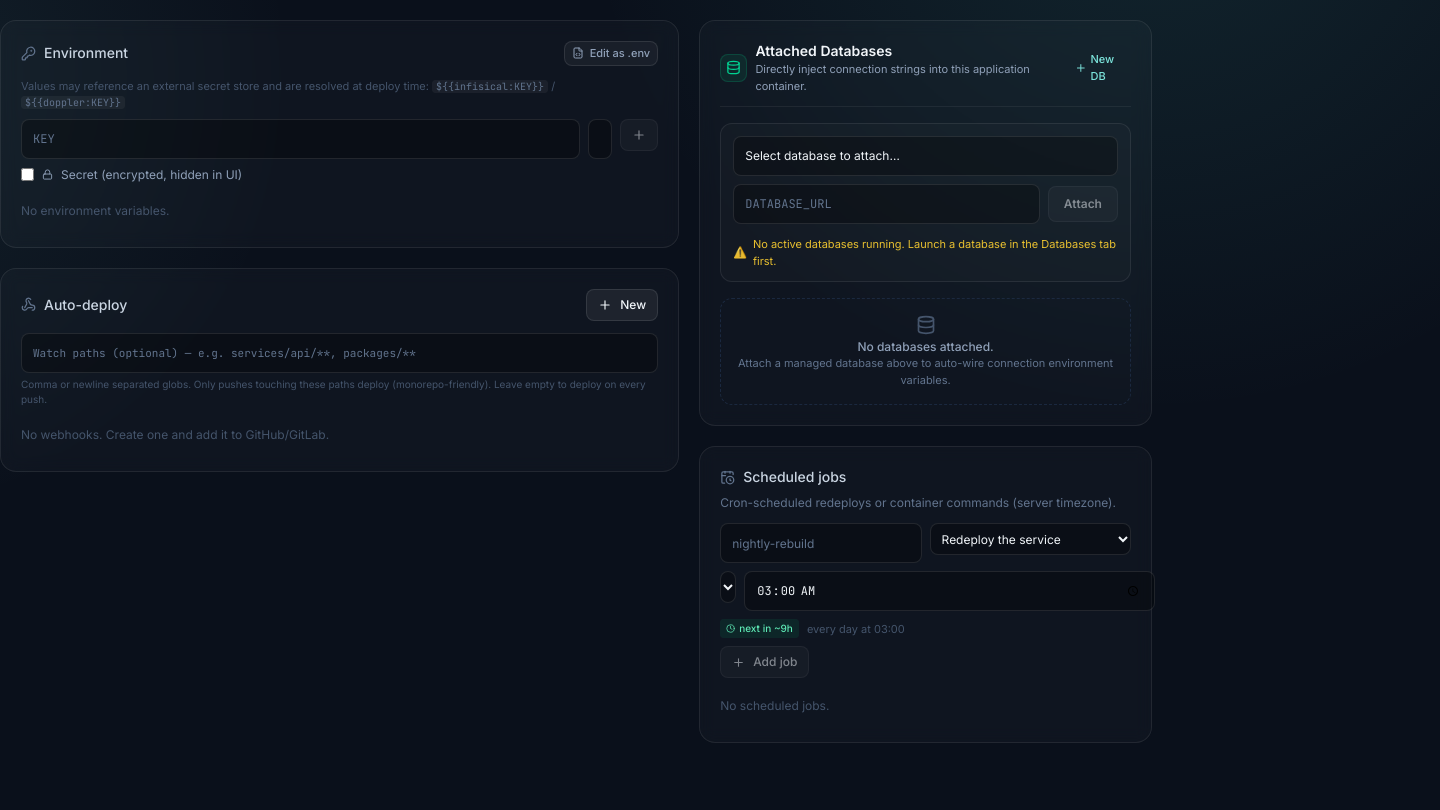
it: EnvironmentTab — scheduled jobs card › requires an exec command before submitting exec jobs
Type "backup" into the field with placeholder "nightly-rebuild". click: (821, 543)
box: [720, 523, 922, 563]
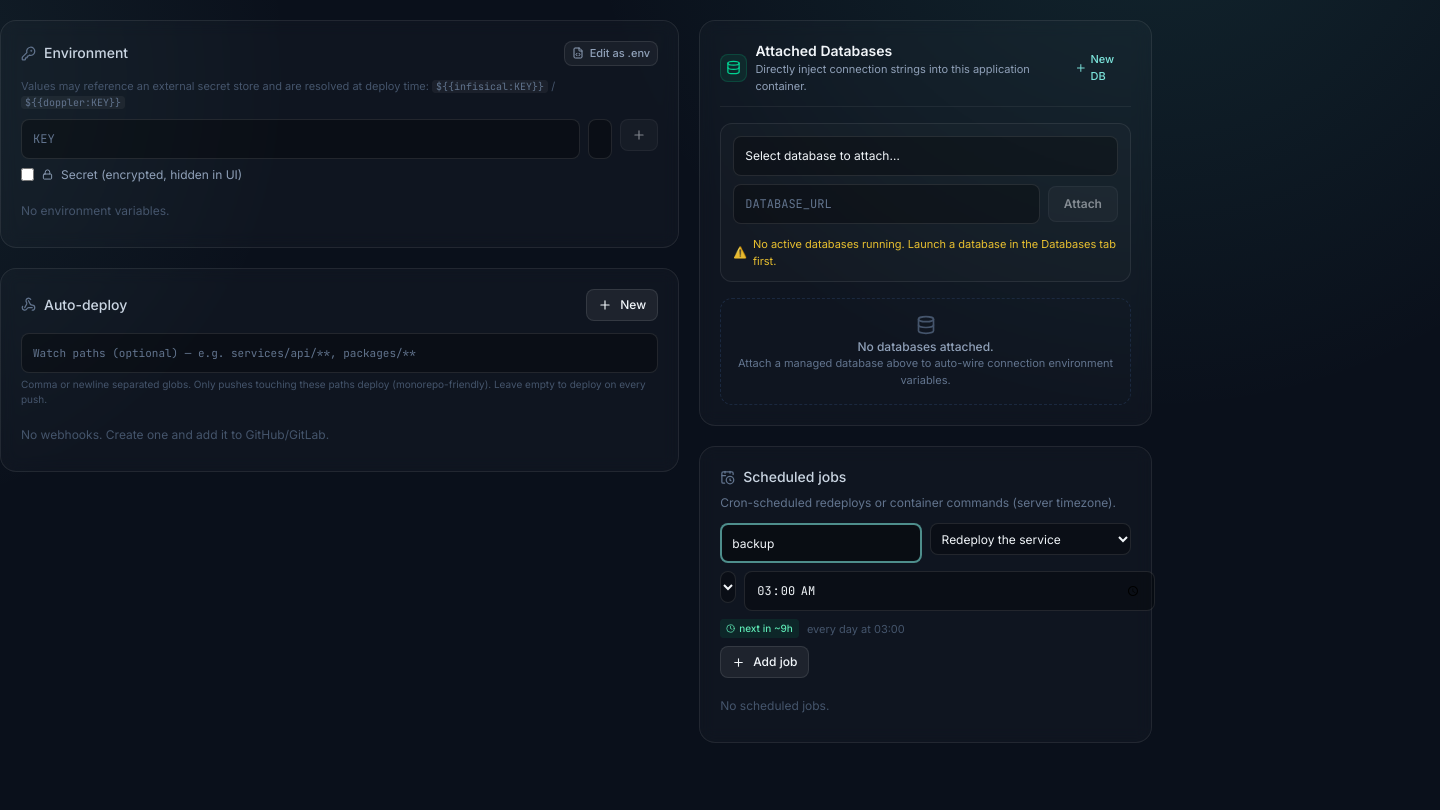
Select "Run a command in the container" in the dropdown named "Job action". click: (1030, 539)
box: [930, 523, 1131, 555]
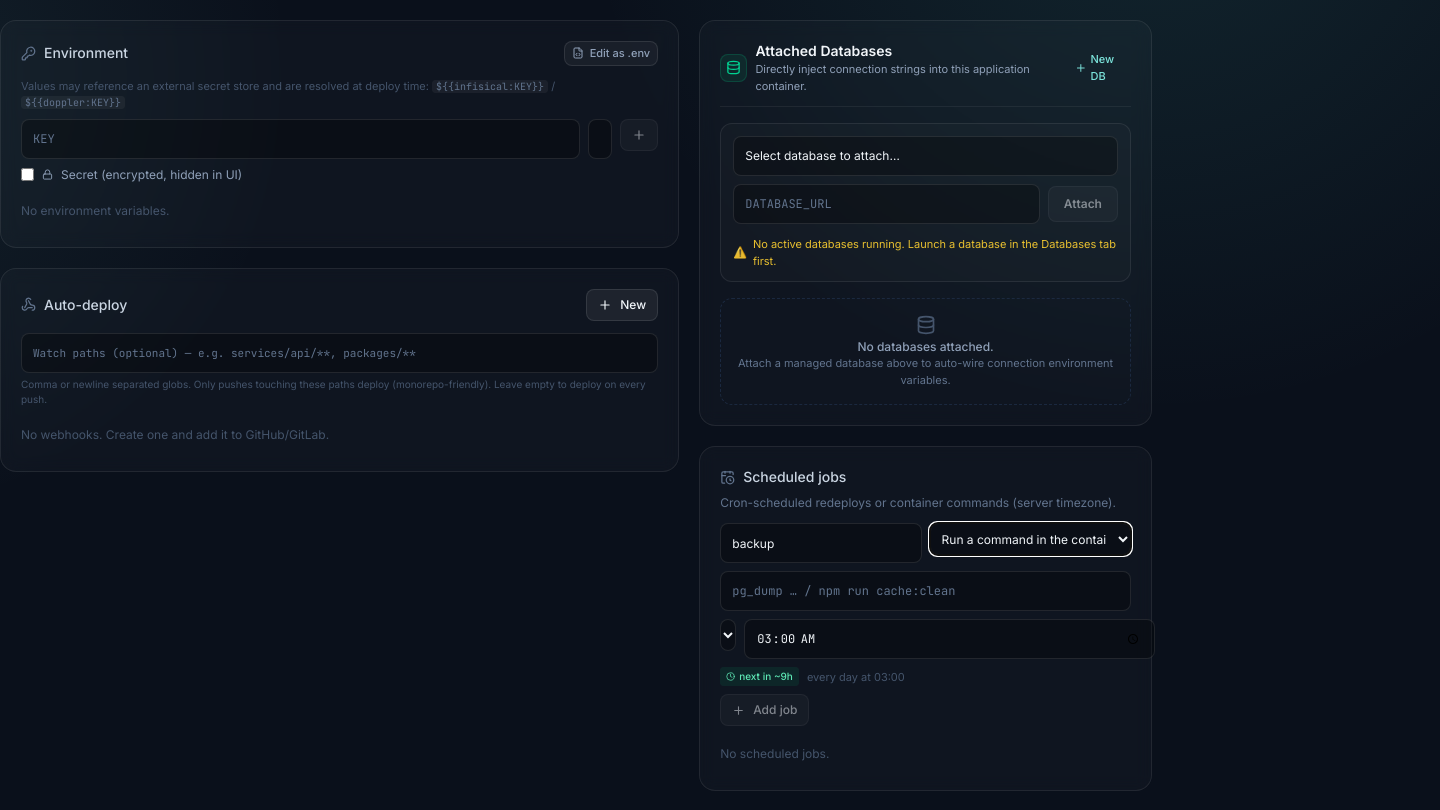
Check: the button "Add job" is disabled, box [720, 694, 809, 726]
Type "pg_dump main" into the field with placeholder "pg_dump … / npm run cache:clean". click: (926, 591)
box: [720, 571, 1131, 611]
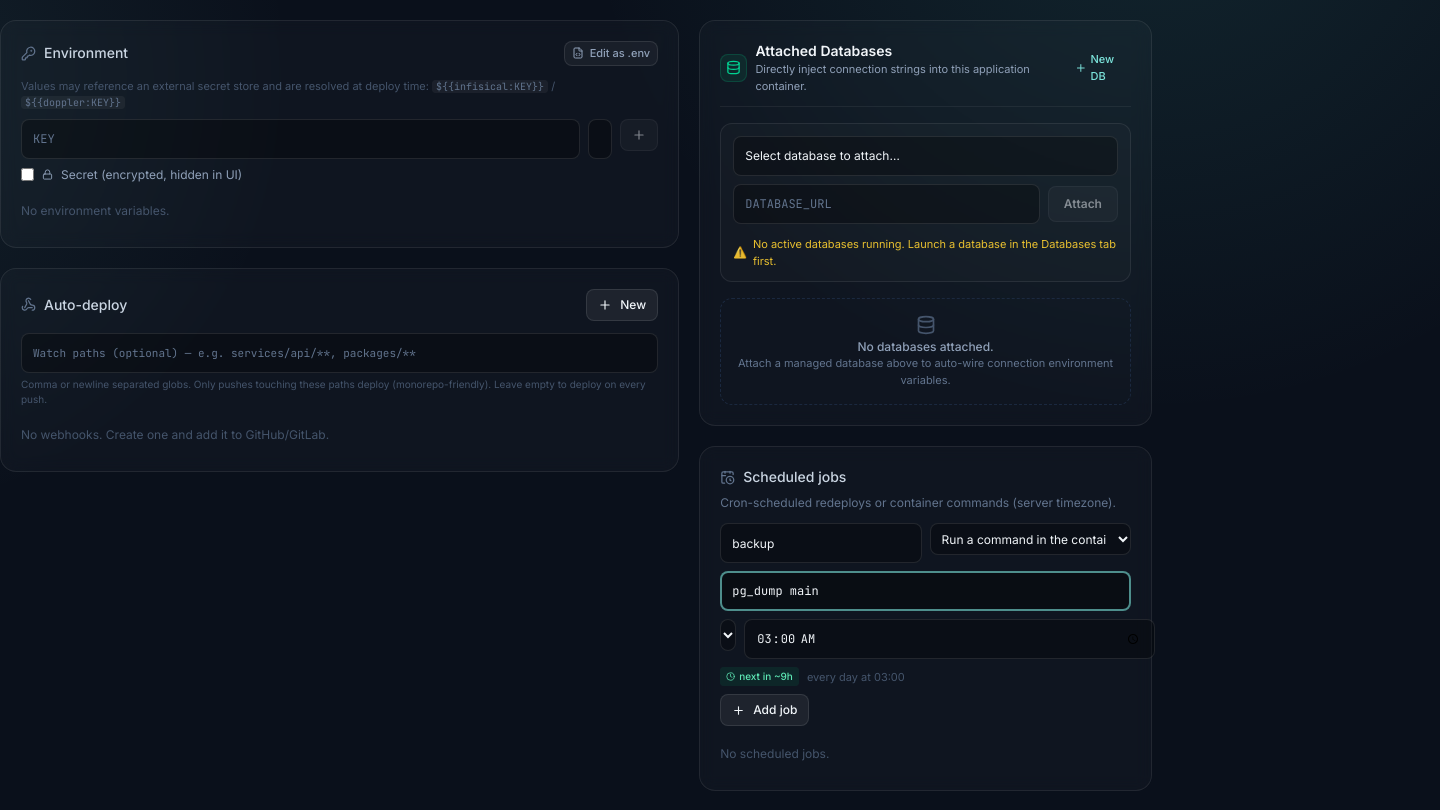
Check: the button "Add job" is enabled, box [720, 694, 809, 726]
